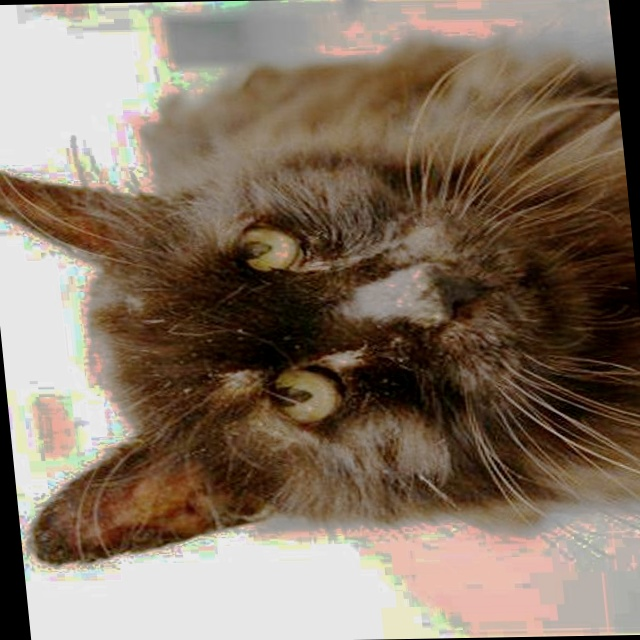ringworm: (44, 465, 194, 558)
